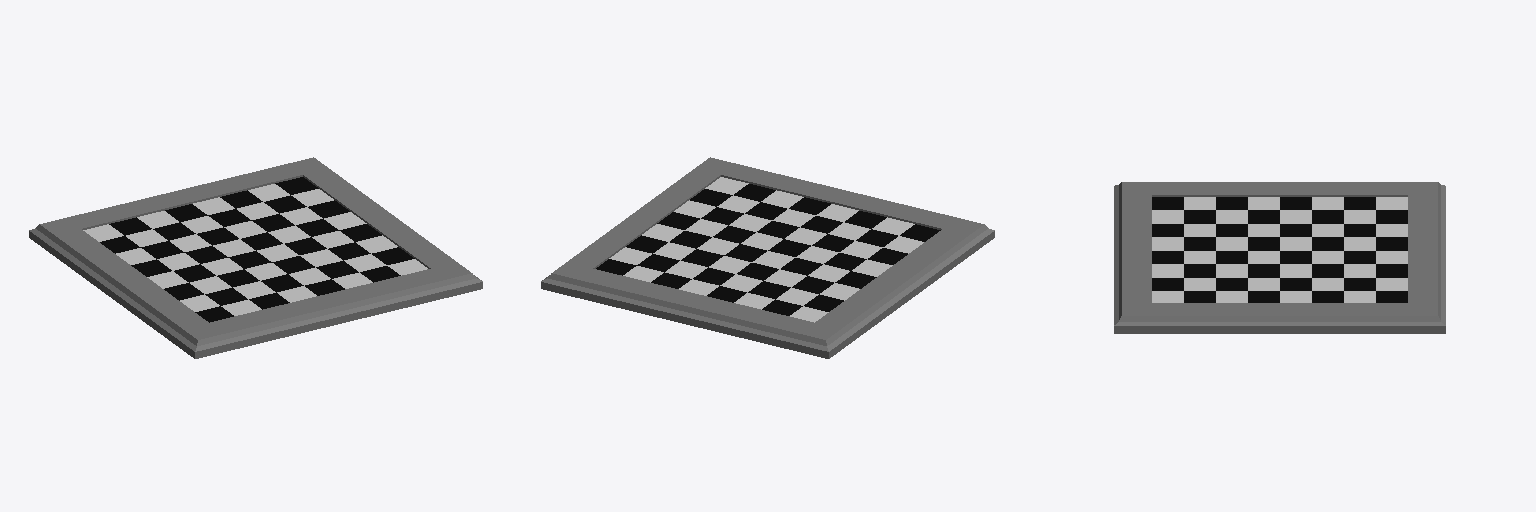
File: board_2.obj
3 renders of one model, left to right at view 1: azimuth 30°, elevation 25°; view 2: azimuth 150°, elevation 25°; view 3: azimuth 270°, elevation 25°, orthographic.
Parts seen in each view (by area): view 1: ChessBoard_Cube, ChessBoardFrame_Plane; view 2: ChessBoard_Cube, ChessBoardFrame_Plane; view 3: ChessBoard_Cube, ChessBoardFrame_Plane.
Part boxes in pixels (x1,y1,x2,y2): ChessBoard_Cube: (83, 177, 427, 322); ChessBoardFrame_Plane: (29, 157, 482, 358); ChessBoard_Cube: (596, 177, 940, 322); ChessBoardFrame_Plane: (541, 157, 994, 358); ChessBoard_Cube: (1152, 197, 1407, 302); ChessBoardFrame_Plane: (1114, 182, 1445, 333).
Bounding box in the file's own units: 62.4 × 3 × 62.4.